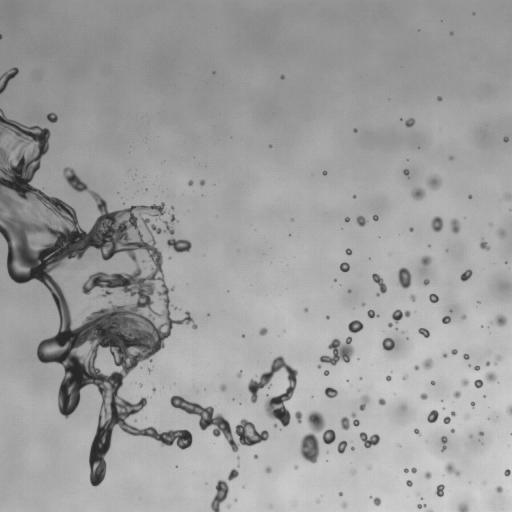droplet: (299, 410, 335, 463), (317, 336, 355, 369), (359, 432, 380, 448), (397, 267, 411, 289), (391, 309, 410, 324), (442, 461, 461, 476), (426, 174, 442, 190), (348, 320, 364, 334), (489, 314, 507, 326), (430, 216, 443, 232), (411, 187, 425, 201), (426, 409, 439, 423), (358, 395, 370, 410), (382, 337, 394, 351), (324, 386, 338, 398), (450, 218, 460, 234), (421, 357, 433, 370), (479, 237, 490, 251), (336, 440, 347, 454), (460, 269, 472, 281), (340, 416, 350, 430), (356, 215, 368, 226), (487, 411, 499, 422), (369, 495, 381, 506), (434, 484, 444, 497), (428, 292, 439, 303), (20, 116, 31, 127), (425, 165, 436, 176), (62, 183, 73, 194), (61, 193, 72, 204), (80, 221, 91, 232), (155, 239, 166, 250), (161, 245, 172, 256), (420, 265, 431, 276), (387, 275, 398, 286), (47, 325, 58, 336), (432, 355, 443, 366), (53, 362, 64, 373), (276, 368, 287, 379), (423, 368, 434, 379), (142, 375, 153, 386), (278, 378, 289, 389), (84, 382, 95, 393), (273, 384, 284, 395), (79, 385, 90, 396), (116, 387, 127, 398), (184, 391, 195, 402), (49, 393, 60, 404), (283, 399, 294, 410), (367, 399, 378, 410), (322, 418, 333, 429), (418, 419, 429, 430), (172, 420, 183, 431), (301, 423, 312, 434), (189, 425, 200, 436), (347, 425, 358, 436), (291, 440, 302, 451), (441, 451, 452, 462), (256, 456, 267, 467), (80, 465, 91, 476), (441, 475, 452, 486), (366, 309, 379, 318), (339, 262, 350, 272), (418, 328, 429, 338), (493, 354, 503, 365), (294, 410, 302, 423), (405, 117, 415, 127), (496, 228, 506, 238), (421, 255, 431, 265), (441, 315, 451, 324), (423, 470, 433, 479), (258, 327, 267, 336), (4, 111, 13, 120), (41, 119, 50, 128), (46, 136, 55, 145), (77, 172, 86, 181), (419, 181, 428, 190), (438, 182, 447, 191), (414, 198, 423, 207), (88, 199, 97, 208), (365, 218, 374, 227), (441, 220, 450, 229), (421, 247, 430, 256), (29, 277, 38, 286), (406, 284, 415, 293), (487, 311, 496, 320), (359, 314, 368, 323), (491, 323, 500, 332), (385, 328, 394, 337), (468, 356, 477, 365), (475, 370, 484, 379), (240, 378, 249, 387), (423, 384, 432, 393), (224, 388, 233, 397), (129, 395, 138, 404), (499, 410, 508, 419), (190, 413, 199, 422), (124, 415, 133, 424), (136, 420, 145, 429), (111, 424, 120, 433), (87, 428, 96, 437), (314, 431, 323, 440), (237, 443, 246, 452), (82, 445, 91, 454), (81, 448, 90, 457), (102, 452, 111, 461), (103, 468, 112, 477), (226, 479, 235, 488), (458, 503, 468, 511), (403, 168, 410, 179), (503, 192, 511, 201), (505, 227, 511, 238), (505, 315, 511, 326), (370, 505, 381, 511), (461, 378, 469, 386), (453, 390, 461, 398), (413, 428, 421, 436), (349, 467, 357, 475), (495, 485, 503, 493), (219, 383, 226, 392), (504, 468, 511, 477), (409, 294, 416, 302), (420, 392, 428, 399), (378, 398, 386, 405), (264, 465, 271, 473), (290, 500, 298, 507), (0, 65, 5, 76), (0, 254, 5, 265), (406, 478, 412, 487), (345, 248, 352, 255), (441, 351, 448, 358), (400, 403, 407, 410), (11, 159, 18, 166), (404, 162, 411, 169), (28, 179, 35, 186), (61, 179, 68, 186), (192, 179, 199, 186), (86, 182, 93, 189), (46, 190, 53, 197), (101, 193, 108, 200), (163, 204, 170, 211), (106, 205, 113, 212), (94, 210, 101, 217), (364, 214, 371, 221), (426, 214, 433, 221), (349, 217, 356, 224), (458, 223, 465, 230), (426, 225, 433, 232), (164, 232, 171, 239), (172, 233, 179, 240), (342, 254, 349, 261), (424, 263, 431, 270), (407, 266, 414, 273), (2, 271, 9, 278), (409, 276, 416, 283), (7, 278, 14, 285), (20, 281, 27, 288), (372, 282, 379, 289), (395, 283, 402, 290), (49, 301, 56, 308), (169, 312, 176, 319), (344, 329, 351, 336), (162, 337, 169, 344), (338, 337, 345, 344), (155, 349, 162, 356), (326, 349, 333, 356), (456, 350, 463, 357), (151, 352, 158, 359), (349, 354, 356, 361), (284, 358, 291, 365), (336, 358, 343, 365), (137, 359, 144, 366), (478, 360, 485, 367), (322, 361, 329, 368), (487, 364, 494, 371), (263, 365, 270, 372), (129, 367, 136, 374), (350, 376, 357, 383), (467, 381, 474, 388), (53, 383, 60, 390), (458, 385, 465, 392), (256, 387, 263, 394), (360, 388, 367, 395), (291, 389, 298, 396), (95, 393, 102, 400), (352, 405, 359, 412), (73, 406, 80, 413), (53, 407, 60, 414), (69, 411, 76, 418), (288, 414, 295, 421), (300, 414, 307, 421), (436, 414, 443, 421), (273, 417, 280, 424), (445, 422, 452, 429), (208, 423, 215, 430), (322, 423, 329, 430), (229, 424, 236, 431), (355, 425, 362, 432), (156, 426, 163, 433), (266, 426, 273, 433), (446, 432, 453, 439), (137, 434, 144, 441), (316, 437, 323, 444), (331, 439, 338, 446), (303, 459, 310, 466), (452, 462, 459, 469), (438, 465, 445, 472), (406, 472, 413, 479), (448, 472, 455, 479), (221, 474, 228, 481), (99, 479, 106, 486), (210, 488, 217, 495), (218, 501, 225, 508), (236, 370, 242, 378), (187, 179, 193, 186), (199, 179, 205, 186), (372, 214, 378, 221), (423, 278, 429, 285), (462, 353, 469, 359), (341, 501, 347, 508), (470, 401, 475, 409), (503, 136, 509, 142), (344, 216, 350, 222), (451, 349, 457, 355), (402, 374, 408, 380), (411, 467, 417, 473), (448, 155, 454, 160), (323, 370, 329, 375), (386, 375, 391, 381), (429, 380, 435, 385), (478, 431, 484, 436), (403, 467, 408, 473), (338, 491, 343, 497), (507, 200, 511, 207), (507, 259, 511, 266), (507, 398, 511, 405), (206, 507, 213, 511), (337, 507, 344, 511), (342, 507, 349, 511), (419, 507, 426, 511), (452, 507, 459, 511), (466, 507, 473, 511), (280, 74, 285, 79), (437, 96, 442, 101), (322, 170, 327, 175), (303, 307, 308, 312), (461, 314, 466, 319), (388, 322, 393, 327), (485, 361, 490, 366), (414, 365, 419, 370), (464, 414, 469, 419), (450, 428, 455, 433), (350, 446, 355, 451), (253, 454, 258, 459), (482, 479, 487, 484), (226, 504, 231, 509), (283, 72, 288, 77), (13, 74, 18, 79), (8, 78, 13, 83), (2, 89, 7, 94), (437, 91, 442, 96), (432, 97, 437, 102), (44, 109, 49, 114), (410, 113, 415, 118), (56, 116, 61, 121), (402, 116, 407, 121), (400, 120, 405, 125), (410, 124, 415, 129), (1, 143, 6, 148), (16, 143, 21, 148), (40, 154, 45, 159), (62, 162, 67, 167), (34, 170, 39, 175), (402, 174, 407, 179), (183, 178, 188, 183), (204, 179, 209, 184), (203, 182, 208, 187), (187, 185, 192, 190), (71, 188, 76, 193), (81, 189, 86, 194), (146, 201, 151, 206), (155, 201, 160, 206), (125, 203, 130, 208), (168, 209, 173, 214), (174, 214, 179, 219), (363, 222, 368, 227), (151, 229, 156, 234), (432, 230, 437, 235), (183, 235, 188, 240), (476, 238, 481, 243), (475, 243, 480, 248), (168, 245, 173, 250), (189, 246, 194, 251), (481, 248, 486, 253), (181, 250, 186, 255), (416, 258, 421, 263), (348, 262, 353, 267), (160, 264, 165, 269), (459, 268, 464, 273), (378, 272, 383, 277), (425, 274, 430, 279), (368, 277, 373, 282), (466, 277, 471, 282), (382, 279, 387, 284), (166, 283, 171, 288), (167, 290, 172, 295), (414, 296, 419, 301), (49, 297, 54, 302), (168, 306, 173, 311), (298, 306, 303, 311), (408, 307, 413, 312), (388, 309, 393, 314), (304, 311, 309, 316), (409, 311, 414, 316), (189, 312, 194, 317), (54, 313, 59, 318), (401, 314, 406, 319), (465, 315, 470, 320), (347, 317, 352, 322), (390, 318, 395, 323), (397, 318, 402, 323), (187, 321, 192, 326), (171, 322, 176, 327), (263, 323, 268, 328), (343, 324, 348, 329), (383, 324, 388, 329), (255, 326, 260, 331), (266, 328, 271, 333), (357, 329, 362, 334), (348, 331, 353, 336), (264, 332, 269, 337), (382, 333, 387, 338), (418, 333, 423, 338), (260, 334, 265, 339), (391, 335, 396, 340), (326, 339, 331, 344), (34, 340, 39, 345), (349, 341, 354, 346), (378, 344, 383, 349), (392, 345, 397, 350), (32, 348, 37, 353), (383, 349, 388, 354), (446, 350, 451, 355), (32, 352, 37, 357), (272, 353, 277, 358), (315, 353, 320, 358), (149, 354, 154, 359), (33, 355, 38, 360), (465, 358, 470, 363), (36, 359, 41, 364), (316, 359, 321, 364), (489, 359, 494, 364), (497, 360, 502, 365), (417, 362, 422, 367), (409, 366, 414, 371), (294, 374, 299, 379), (495, 375, 500, 380), (233, 376, 238, 381), (121, 377, 126, 382), (405, 377, 410, 382), (329, 383, 334, 388), (225, 384, 230, 389), (479, 385, 484, 390), (215, 386, 220, 391), (320, 386, 325, 391), (280, 388, 285, 393), (449, 389, 454, 394), (176, 391, 181, 396), (336, 391, 341, 396), (141, 392, 146, 397), (321, 393, 326, 398), (166, 394, 171, 399), (381, 394, 386, 399), (449, 394, 454, 399), (458, 394, 463, 399), (183, 395, 188, 400), (331, 396, 336, 401), (145, 397, 150, 402), (384, 398, 389, 403), (420, 398, 425, 403), (357, 399, 362, 404), (373, 399, 378, 404), (77, 400, 82, 405), (166, 401, 171, 406), (440, 401, 445, 406), (201, 403, 206, 408), (364, 403, 369, 408), (378, 404, 383, 409), (176, 407, 181, 412), (425, 409, 430, 414), (59, 413, 64, 418), (223, 415, 228, 420), (93, 416, 98, 421), (246, 416, 251, 421), (348, 418, 353, 423), (430, 421, 435, 426), (179, 425, 184, 430), (256, 428, 261, 433), (267, 430, 272, 435), (122, 431, 127, 436), (219, 432, 224, 437), (127, 433, 132, 438), (436, 433, 441, 438), (474, 433, 479, 438), (479, 435, 484, 440), (259, 439, 264, 444), (190, 440, 195, 445), (359, 440, 364, 445), (376, 441, 381, 446), (438, 441, 443, 446), (225, 442, 230, 447), (253, 442, 258, 447), (162, 443, 167, 448), (369, 444, 374, 449), (185, 446, 190, 451), (344, 446, 349, 451), (232, 451, 237, 456), (261, 463, 266, 468), (270, 465, 275, 470), (427, 467, 432, 472), (500, 467, 505, 472), (225, 469, 230, 474), (265, 472, 270, 477), (459, 472, 464, 477), (232, 476, 237, 481), (212, 480, 217, 485), (495, 481, 500, 486), (501, 485, 506, 490), (431, 486, 436, 491), (226, 491, 231, 496), (494, 491, 499, 496), (379, 496, 384, 501), (368, 498, 373, 503), (379, 499, 384, 504), (418, 499, 423, 504), (346, 502, 351, 507), (294, 464, 298, 470), (0, 219, 3, 226), (0, 233, 3, 240), (468, 194, 472, 199), (152, 387, 156, 392), (468, 434, 473, 438), (396, 443, 401, 447), (367, 465, 372, 469), (316, 498, 320, 503), (449, 31, 453, 35), (353, 128, 357, 132), (268, 144, 272, 148), (352, 194, 356, 198), (409, 227, 413, 231), (333, 278, 337, 282), (347, 289, 351, 293), (361, 302, 365, 306), (241, 334, 245, 338), (358, 376, 362, 380), (508, 137, 511, 142), (290, 218, 294, 221), (488, 223, 492, 226), (427, 244, 431, 247), (445, 248, 448, 252), (449, 309, 452, 313), (206, 313, 210, 316), (326, 315, 329, 319), (394, 327, 398, 330), (139, 383, 142, 387), (310, 395, 314, 398), (442, 406, 445, 410), (234, 498, 237, 502), (0, 34, 2, 39), (326, 449, 328, 454), (472, 12, 475, 15), (212, 71, 215, 74), (417, 146, 420, 149), (122, 202, 125, 205), (508, 208, 511, 211), (388, 252, 391, 255), (168, 256, 171, 259), (504, 261, 507, 264), (283, 329, 286, 332), (406, 337, 409, 340), (346, 379, 349, 382), (483, 395, 486, 398), (231, 398, 234, 401), (440, 399, 443, 402), (134, 419, 137, 422), (350, 440, 353, 443), (175, 465, 178, 468), (468, 481, 471, 484), (420, 497, 423, 500), (448, 28, 451, 31), (446, 31, 449, 34), (1, 34, 4, 37), (450, 34, 453, 37), (13, 64, 16, 67), (17, 67, 20, 70), (210, 68, 213, 71), (277, 74, 280, 77), (279, 78, 282, 81), (441, 96, 444, 99), (438, 100, 441, 103), (1, 107, 4, 110), (396, 117, 399, 120), (355, 126, 358, 129), (350, 128, 353, 131), (500, 136, 503, 139), (503, 141, 506, 144), (9, 143, 12, 146), (271, 143, 274, 146), (265, 144, 268, 147), (268, 147, 271, 150), (402, 166, 405, 169), (320, 168, 323, 171), (319, 171, 322, 174), (326, 171, 329, 174), (400, 171, 403, 174), (132, 175, 135, 178), (185, 183, 188, 186), (144, 184, 147, 187), (147, 187, 150, 190), (40, 188, 43, 191), (116, 188, 119, 191), (141, 188, 144, 191), (468, 191, 471, 194), (471, 193, 474, 196), (349, 194, 352, 197), (355, 194, 358, 197), (465, 194, 468, 197), (468, 198, 471, 201), (132, 202, 135, 205), (173, 204, 176, 207), (371, 212, 374, 215), (343, 214, 346, 217), (347, 214, 350, 217), (377, 217, 380, 220), (341, 218, 344, 221), (371, 219, 374, 222), (344, 221, 347, 224), (410, 224, 413, 227), (406, 228, 409, 231), (412, 228, 415, 231), (160, 230, 163, 233), (409, 231, 412, 234), (285, 232, 288, 235), (290, 232, 293, 235), (380, 235, 383, 238), (483, 238, 486, 241), (428, 241, 431, 244), (430, 244, 433, 247), (343, 246, 346, 249), (349, 246, 352, 249), (489, 247, 492, 250), (447, 248, 450, 251), (342, 250, 345, 253), (351, 250, 354, 253), (367, 253, 370, 256), (370, 256, 373, 259), (365, 257, 368, 260), (506, 259, 509, 262), (501, 260, 504, 263), (337, 262, 340, 265), (504, 263, 507, 266), (348, 267, 351, 270), (373, 270, 376, 273), (343, 271, 346, 274), (420, 279, 423, 282), (331, 280, 334, 283), (426, 283, 429, 286), (347, 285, 350, 288), (173, 287, 176, 290), (223, 288, 226, 291), (344, 288, 347, 291), (350, 288, 353, 291), (224, 291, 227, 294), (347, 292, 350, 295), (436, 293, 439, 296), (374, 295, 377, 298), (426, 296, 429, 299), (476, 297, 479, 300), (362, 299, 365, 302), (427, 299, 430, 302), (436, 300, 439, 303), (358, 302, 361, 305), (475, 302, 478, 305), (305, 304, 308, 307), (370, 306, 373, 309), (366, 307, 369, 310), (451, 307, 454, 310), (307, 308, 310, 311), (206, 309, 209, 312), (463, 311, 466, 314), (203, 312, 206, 315), (209, 312, 212, 315), (326, 312, 329, 315), (441, 314, 444, 317), (206, 315, 209, 318), (323, 317, 326, 320), (328, 317, 331, 320), (369, 317, 372, 320), (463, 318, 466, 321), (439, 320, 442, 323), (443, 323, 446, 326), (488, 323, 491, 326), (196, 324, 199, 327), (477, 324, 480, 327), (483, 324, 486, 327), (426, 327, 429, 330), (480, 327, 483, 330), (191, 328, 194, 331), (397, 328, 400, 331), (238, 333, 241, 336), (244, 333, 247, 336), (404, 333, 407, 336), (428, 334, 431, 337), (403, 338, 406, 341), (451, 346, 454, 349), (464, 350, 467, 353), (439, 353, 442, 356), (468, 353, 471, 356), (359, 356, 362, 359), (441, 356, 444, 359), (476, 362, 479, 365), (472, 363, 475, 366), (465, 365, 468, 368), (236, 368, 239, 371), (415, 369, 418, 372), (473, 369, 476, 372), (145, 370, 148, 373), (241, 370, 244, 373), (387, 372, 390, 375), (327, 373, 330, 376), (359, 373, 362, 376), (324, 375, 327, 378), (399, 375, 402, 378), (345, 376, 348, 379), (362, 376, 365, 379), (382, 376, 385, 379), (390, 377, 393, 380), (431, 377, 434, 380), (348, 379, 351, 382), (359, 379, 362, 382), (384, 379, 387, 382), (402, 379, 405, 382), (136, 380, 139, 383), (140, 380, 143, 383), (345, 381, 348, 384), (434, 382, 437, 385), (136, 383, 139, 386), (430, 384, 433, 387), (149, 386, 152, 389), (200, 386, 203, 389), (155, 387, 158, 390), (149, 389, 152, 392), (311, 392, 314, 395), (229, 395, 232, 398), (233, 395, 236, 398), (440, 396, 443, 399), (480, 396, 483, 399), (311, 397, 314, 400), (228, 398, 231, 401), (470, 398, 473, 401), (233, 399, 236, 402), (211, 404, 214, 407), (468, 404, 471, 407), (473, 404, 476, 407), (450, 408, 453, 411), (454, 411, 457, 414), (424, 418, 427, 421), (358, 419, 361, 422), (488, 419, 491, 422), (480, 428, 483, 431), (418, 429, 421, 432), (454, 429, 457, 432), (507, 430, 510, 433), (483, 431, 486, 434), (477, 441, 480, 444), (443, 449, 446, 452), (256, 452, 259, 455), (338, 452, 341, 455), (257, 455, 260, 458), (254, 458, 257, 461), (327, 458, 330, 461), (173, 462, 176, 465), (177, 464, 180, 467), (402, 465, 405, 468), (290, 466, 293, 469), (415, 466, 418, 469), (504, 466, 507, 469), (174, 467, 177, 470), (235, 467, 238, 470), (400, 468, 403, 471), (408, 468, 411, 471), (414, 471, 417, 474), (410, 479, 413, 482), (403, 482, 406, 485), (436, 482, 439, 485), (411, 483, 414, 486), (406, 485, 409, 488), (338, 488, 341, 491), (335, 492, 338, 495), (342, 492, 345, 495), (366, 493, 369, 496), (421, 494, 424, 497), (338, 495, 341, 498), (417, 495, 420, 498), (236, 497, 239, 500), (319, 497, 322, 500), (414, 505, 417, 508), (425, 505, 428, 508), (201, 194, 205, 196), (204, 387, 206, 391), (417, 29, 420, 31), (406, 159, 409, 161), (145, 188, 147, 191), (289, 233, 291, 236), (227, 289, 229, 292), (481, 324, 483, 327), (357, 357, 359, 360), (390, 370, 392, 373), (173, 382, 175, 385), (424, 440, 427, 442), (242, 485, 244, 488), (0, 38, 2, 41), (509, 210, 511, 213), (509, 435, 511, 438), (400, 118, 402, 120), (117, 192, 119, 194), (155, 195, 157, 197), (378, 236, 380, 238), (368, 257, 370, 259), (339, 284, 341, 286), (487, 326, 489, 328), (140, 366, 142, 368), (357, 389, 359, 391), (279, 428, 281, 430), (205, 482, 207, 484), (213, 184, 214, 185), (331, 286, 332, 287), (279, 294, 280, 295), (145, 417, 146, 418)
ligament: (170, 395, 268, 452), (210, 468, 239, 511), (0, 67, 19, 94), (474, 371, 499, 388), (26, 110, 57, 123), (372, 273, 387, 297), (442, 411, 456, 424), (417, 503, 434, 511), (350, 412, 359, 427), (440, 436, 447, 452), (468, 364, 480, 371), (505, 405, 511, 417), (236, 455, 239, 467), (478, 439, 483, 445), (400, 330, 407, 333), (476, 301, 481, 303), (239, 401, 241, 405), (143, 175, 146, 177)
